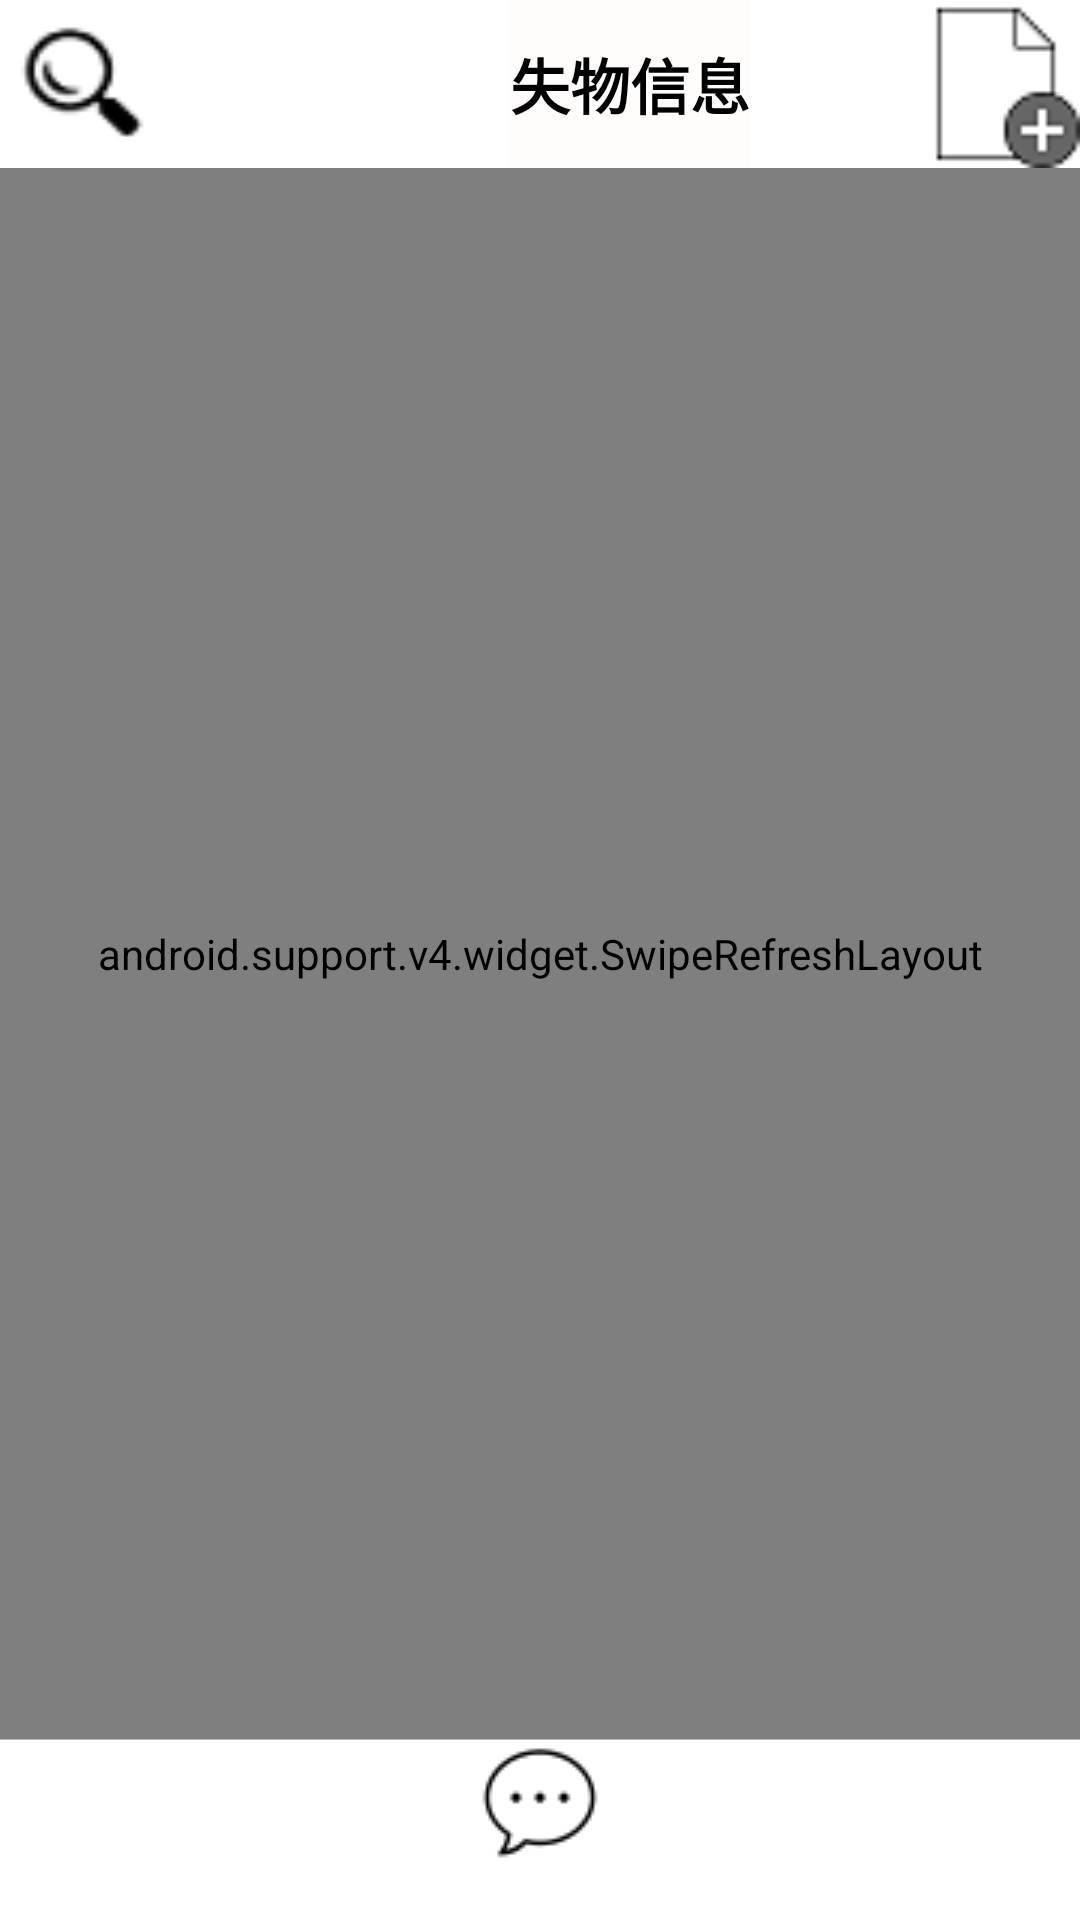

Where to tap for icons on this 1080x1920 app screen, as (x,y):
search: (83,82)
